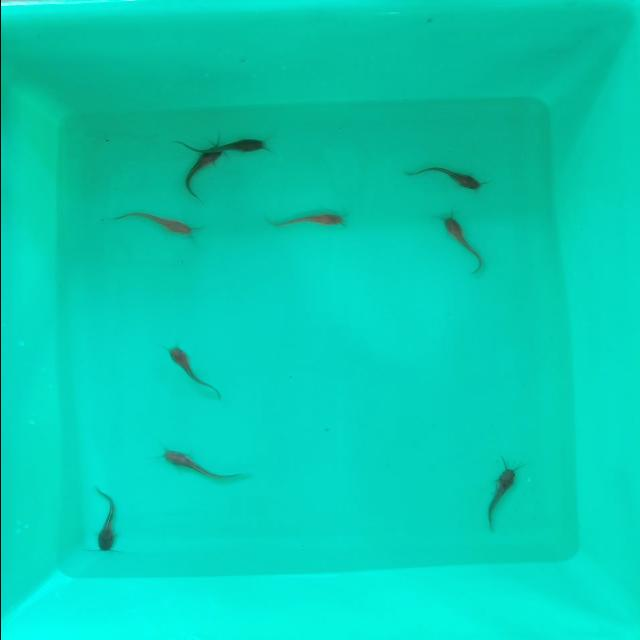lele: (158, 450, 247, 482), (404, 164, 484, 192), (483, 468, 518, 530), (114, 213, 196, 239), (165, 346, 211, 392), (92, 482, 120, 556), (442, 218, 480, 270), (182, 152, 216, 204), (185, 136, 266, 154), (270, 213, 344, 230)
